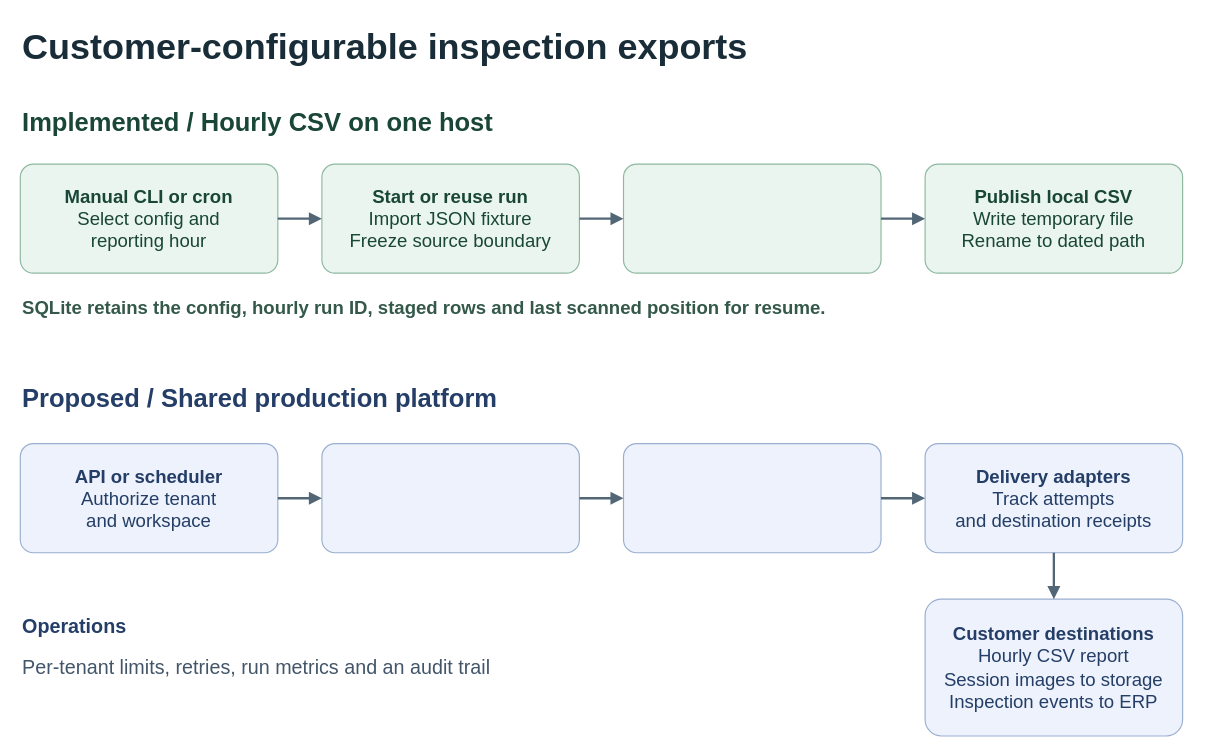
Image size: 1224x756. Some labels were removed from this diagram. Here are the shapes that lost their labels. From the top down, the box of each, then its label:
(622, 163, 881, 273): Process two records Filter and format Commit rows + checkpoint
(321, 443, 579, 553): Create run Load versioned config Persist snapshot and scope
(622, 443, 881, 553): Queue and workers Page inspection data Checkpoint prepared output
